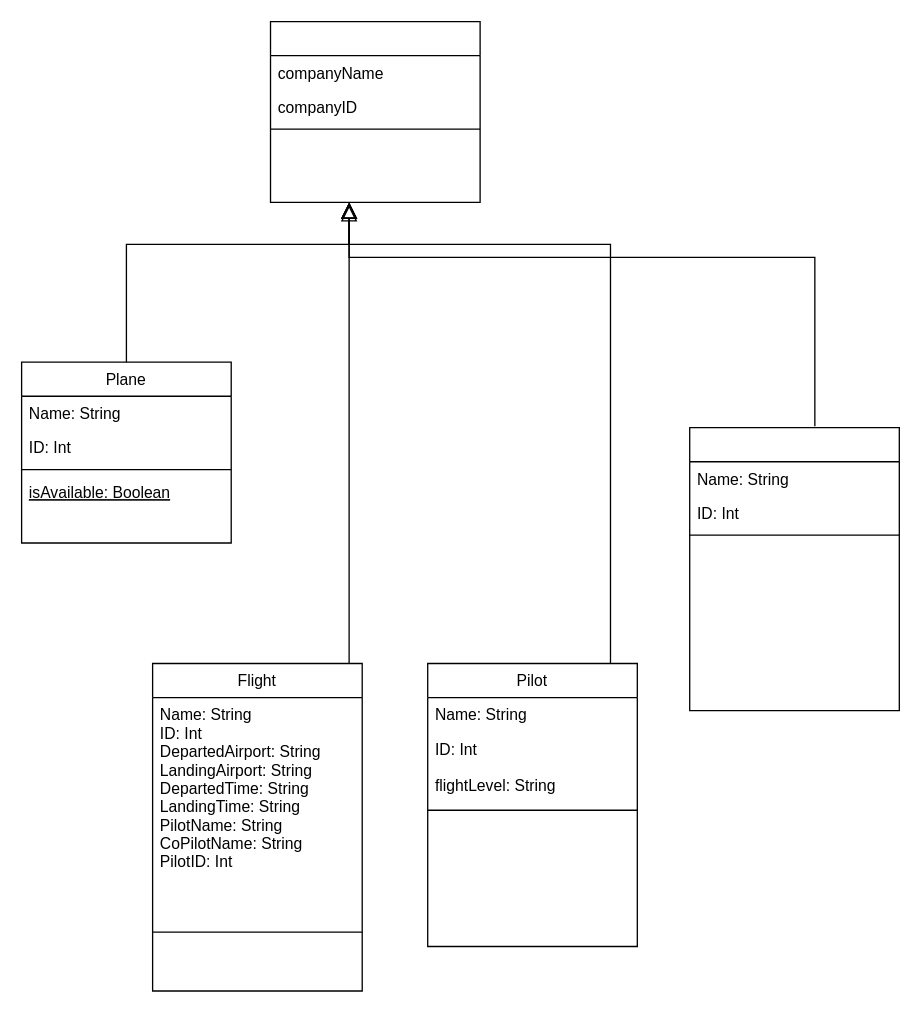
Image size: 921x1013. Some labels were removed from this diagram. The shapes that lost their labels are listed below. From the top down, each one's box as (x1, y1, x2, y2) in pixels, then its label:
(269, 20, 480, 202): AirlineCompany
(688, 426, 899, 711): Airport
